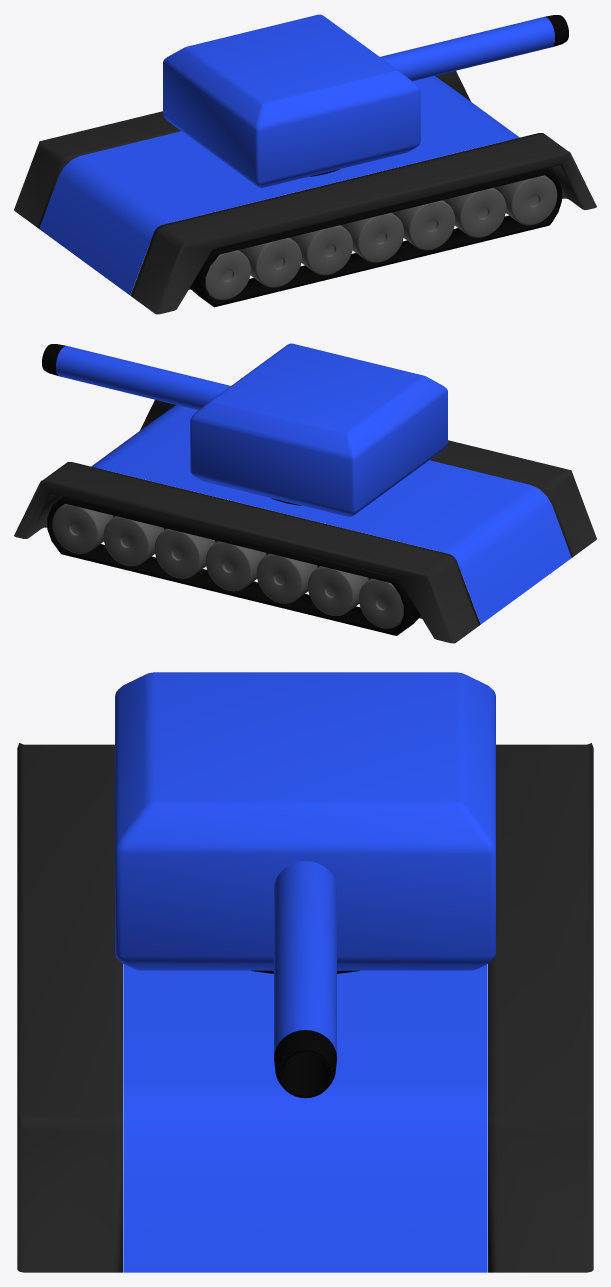
Rendered from Tank v2.0.fbx.
3 views of the same model, one above another, from view 1: azimuth 30°, elevation 25°; view 2: azimuth 150°, elevation 25°; view 3: azimuth 270°, elevation 25° (orthographic). The views are drawn at different scales.
Parts seen in each view (by area): view 1: MainBody, Turret, Rims.001, Track2, Rohr; view 2: MainBody, Turret, Rims, Track1, Rohr; view 3: MainBody, Turret, Rohr.
Boxes of the visible parts, bbox=[...] form: MainBody: bbox=[14, 71, 596, 314]; Turret: bbox=[163, 14, 420, 187]; Rims.001: bbox=[205, 175, 557, 300]; Track2: bbox=[190, 168, 561, 307]; Rohr: bbox=[380, 15, 568, 81]; MainBody: bbox=[14, 400, 596, 643]; Turret: bbox=[190, 343, 447, 516]; Rims: bbox=[52, 503, 403, 628]; Track1: bbox=[47, 497, 420, 635]; Rohr: bbox=[42, 344, 230, 410]; MainBody: bbox=[17, 743, 593, 1272]; Turret: bbox=[115, 672, 495, 970]; Rohr: bbox=[274, 861, 336, 1098].
Size of the model in its own units: 134 by 43.14 by 69.96.
